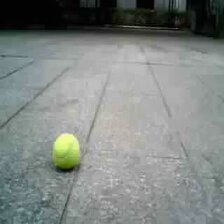tennis: (52, 133, 80, 166)
